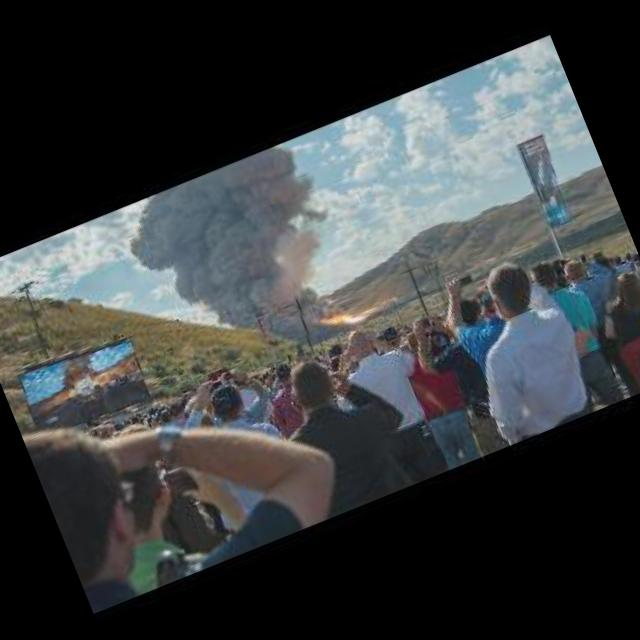fire: (324, 302, 363, 330)
smoke: (116, 130, 362, 363)
